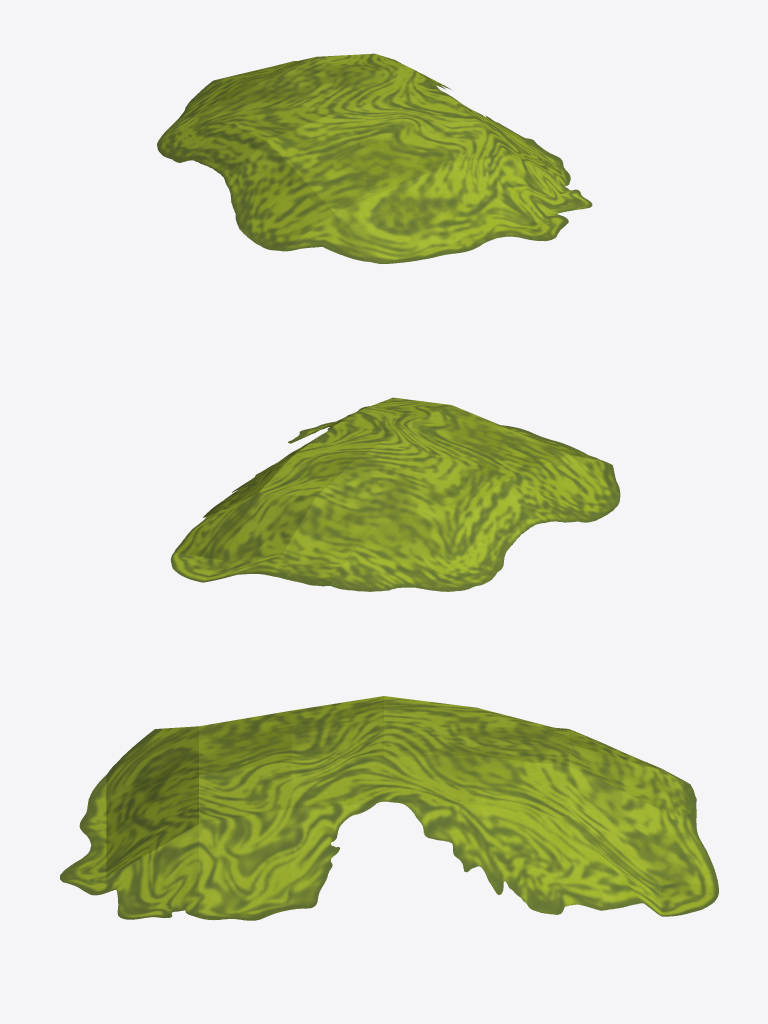
File: Algae_Plane_02.fbx
The picture shows the model from 3 angles, top to bottom: view 1: azimuth 30°, elevation 25°; view 2: azimuth 150°, elevation 25°; view 3: azimuth 270°, elevation 25°; orthographic projection. The views are drawn at different scales.
Parts seen in each view (by area): view 1: Plane; view 2: Plane; view 3: Plane.
Boxes of the visible parts, box(x1,y1,x2,y2) form: Plane: box(157, 53, 592, 263); Plane: box(170, 397, 620, 591); Plane: box(60, 696, 718, 920).
Bounding box in the file's own units: 1279 × 186 × 1279.
1 material, 1 textured.
